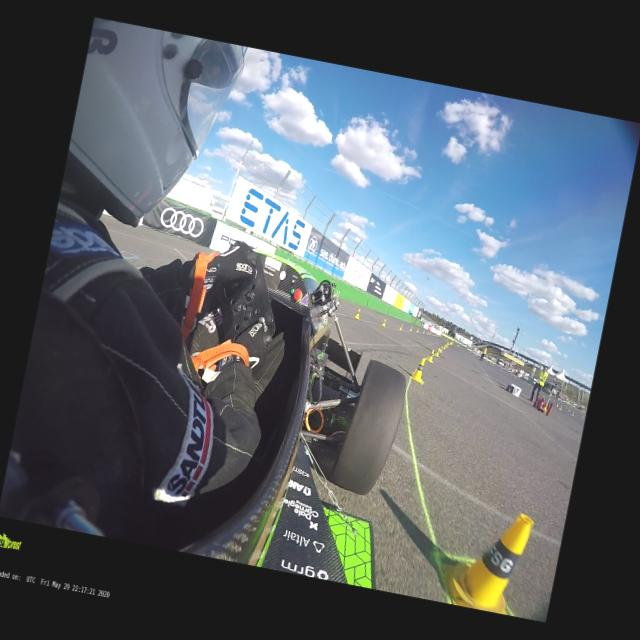yellow_cone: (443, 502, 537, 616), (409, 355, 428, 384), (426, 350, 434, 362), (354, 308, 361, 320), (434, 348, 440, 357), (382, 318, 386, 328), (399, 324, 403, 331), (409, 326, 413, 332), (417, 328, 420, 333), (559, 406, 562, 410), (440, 347, 442, 352), (422, 329, 424, 334), (444, 346, 446, 350), (426, 331, 428, 335)
